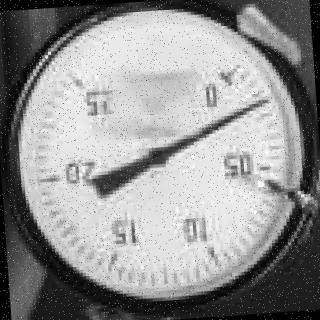gauge: (0, 0, 320, 320), (180, 49, 252, 113), (57, 56, 126, 121), (182, 49, 252, 113), (144, 144, 172, 172), (256, 95, 272, 106)
